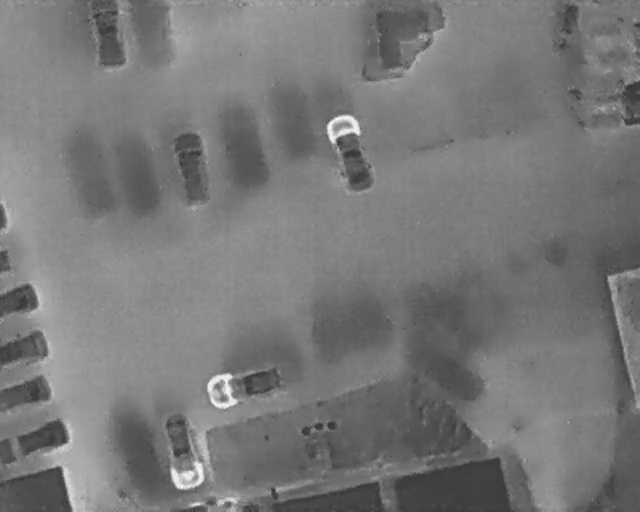Car: (322, 108, 379, 196), (157, 409, 211, 493), (203, 358, 286, 412), (168, 129, 217, 212), (1, 418, 71, 465), (89, 0, 127, 70), (0, 373, 53, 413), (0, 328, 49, 371), (0, 281, 39, 320)
